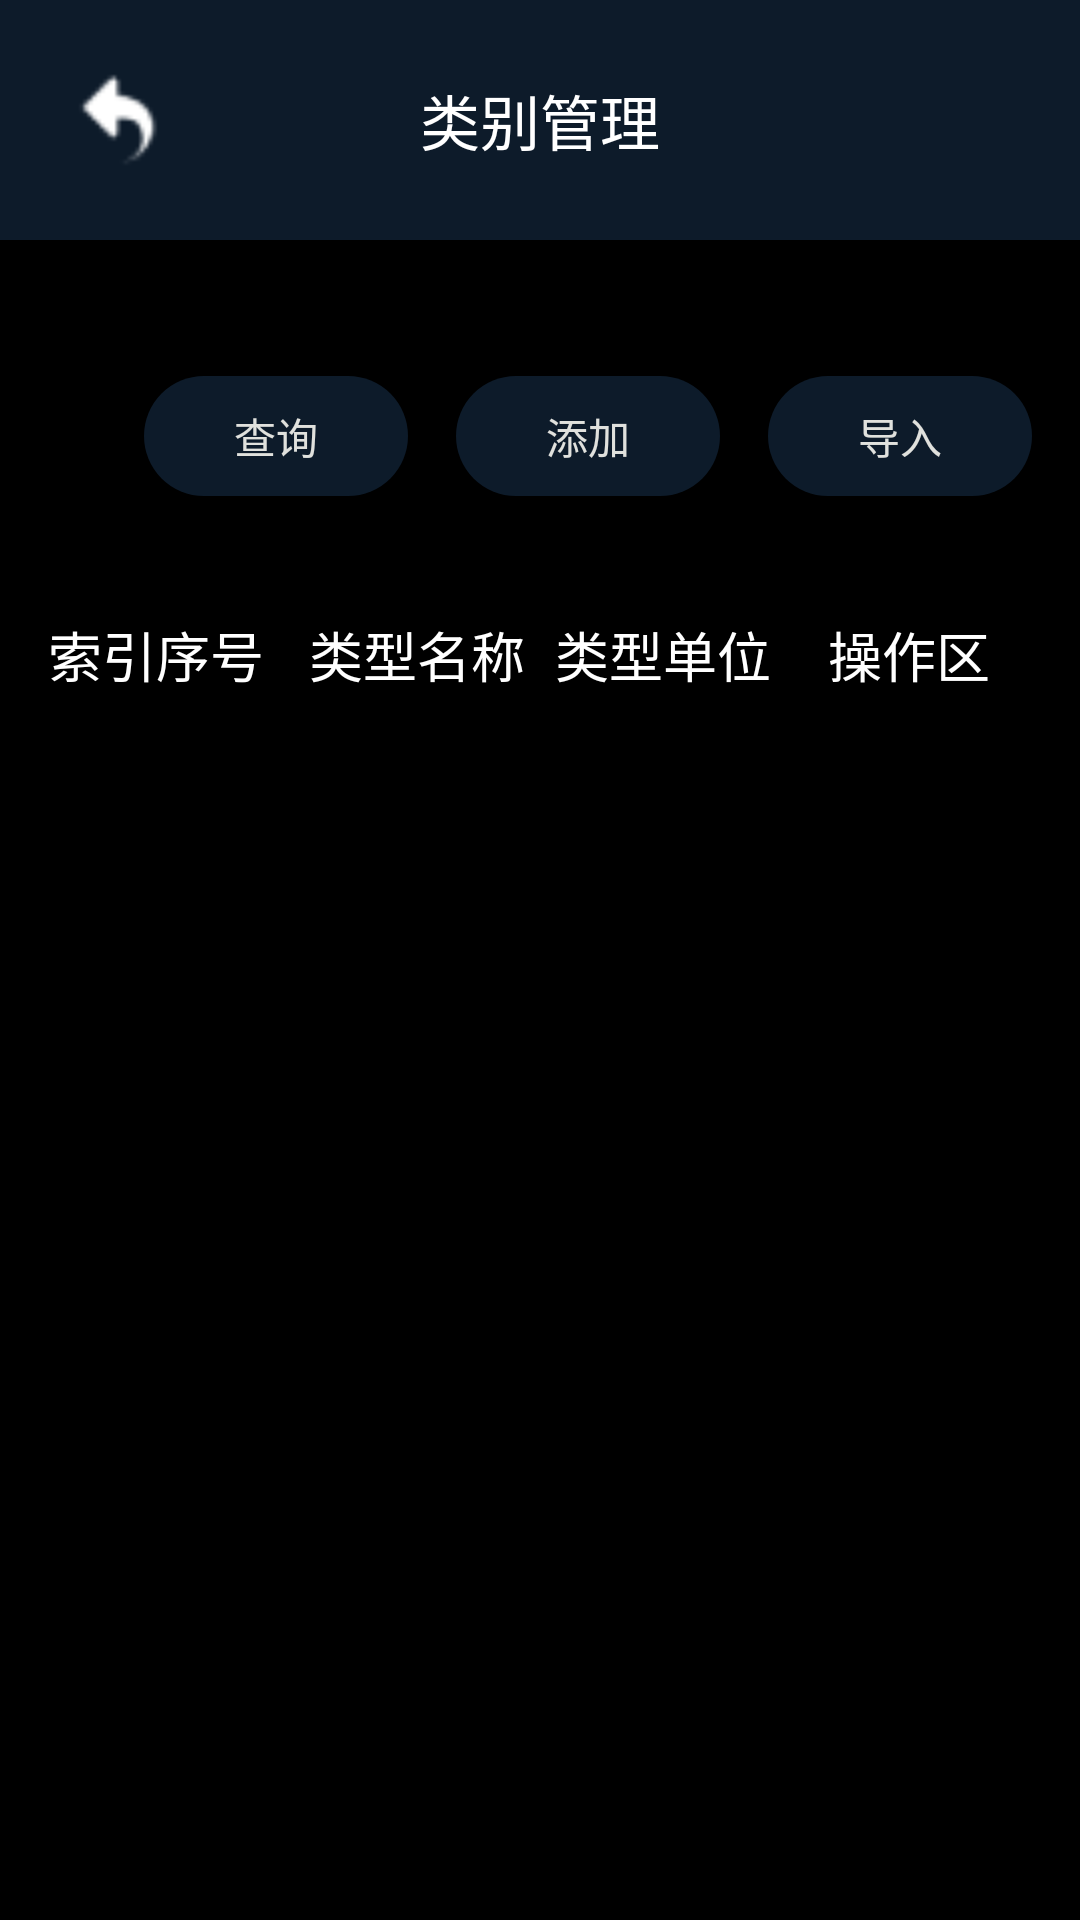

Where icons sit on this 1080px x 1920px app screen, as detection(x1, y1, x2, y2):
返回: detection(82, 75, 156, 160)
